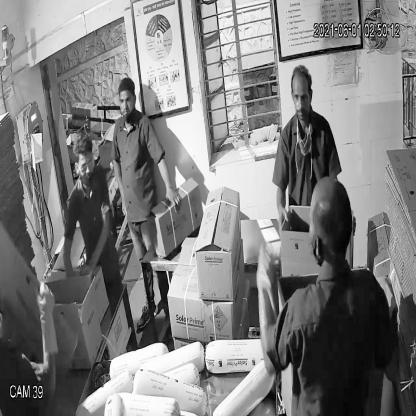goggles: (72, 157, 98, 179)
no_goggles: (289, 85, 317, 107), (113, 90, 138, 110)
